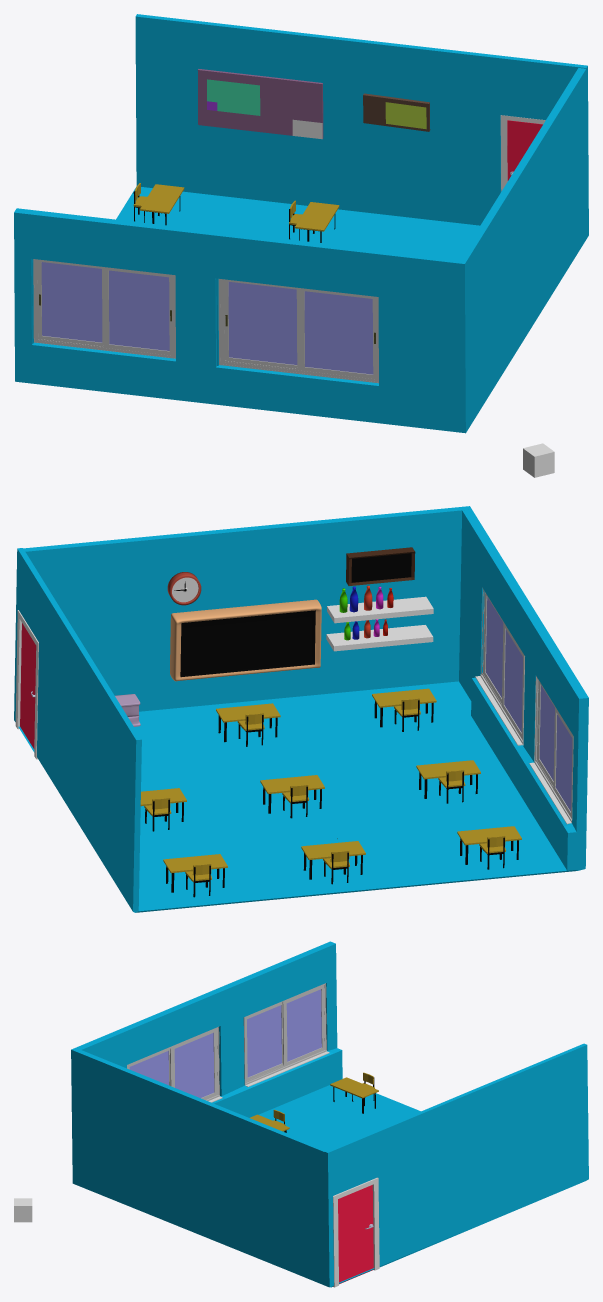
The model's file is FinaleOriginale.glb.
3 views of the same model, one above another, from view 1: azimuth 30°, elevation 25°; view 2: azimuth 150°, elevation 25°; view 3: azimuth 270°, elevation 25° (orthographic). The views are drawn at different scales.
Visible parts, largest first — view 1: Plane.001, Cube.006, Window.R.001, Window.L.001, Window.R, Window.L, Cube.001, Cube.005, WindowFrame.001, WindowFrame, Door, Cube.018 (+1 smaller); view 2: Plane.001, Cube.001, Cube, Cube.002, Window.L.001, Cube.004, Window.L, Cube.003, Window.R.001, Door, Window.R, DoorFrame (+3 smaller); view 3: Plane.001, Door, Window.L, Window.L.001, Window.R, DoorFrame, Cube.001, Window.R.001, WindowFrame, Cube.018.
Boxes of the visible parts, x1,y1,x2,y2 form: Plane.001: [14, 14, 588, 433]; Cube.006: [197, 69, 323, 139]; Window.R.001: [297, 287, 376, 379]; Window.L.001: [224, 279, 297, 368]; Window.R: [102, 267, 172, 355]; Window.L: [37, 259, 103, 346]; Cube.001: [133, 183, 339, 242]; Cube.005: [363, 93, 430, 131]; WindowFrame.001: [218, 279, 378, 383]; WindowFrame: [33, 259, 175, 358]; Door: [507, 120, 542, 180]; Cube.018: [523, 443, 554, 477]; Plane.001: [14, 506, 588, 912]; Cube.001: [140, 688, 521, 897]; Cube: [170, 599, 321, 681]; Cube.002: [346, 547, 415, 585]; Window.L.001: [501, 622, 524, 739]; Cube.004: [326, 625, 433, 651]; Window.L: [553, 707, 573, 818]; Cube.003: [327, 596, 433, 623]; Window.R.001: [483, 593, 503, 703]; Door: [20, 623, 36, 748]; Window.R: [537, 681, 554, 786]; DoorFrame: [15, 610, 38, 759]; Plane.001: [71, 941, 588, 1287]; Door: [338, 1185, 373, 1284]; Window.L: [282, 984, 324, 1066]; Window.L.001: [170, 1028, 217, 1099]; Window.R: [245, 1003, 283, 1081]; DoorFrame: [333, 1177, 379, 1287]; Cube.001: [250, 1072, 378, 1132]; Window.R.001: [127, 1048, 170, 1085]; WindowFrame: [243, 983, 326, 1085]; Cube.018: [14, 1198, 32, 1222].
Size of the model in its own units: 56.87 by 19.22 by 63.11.
